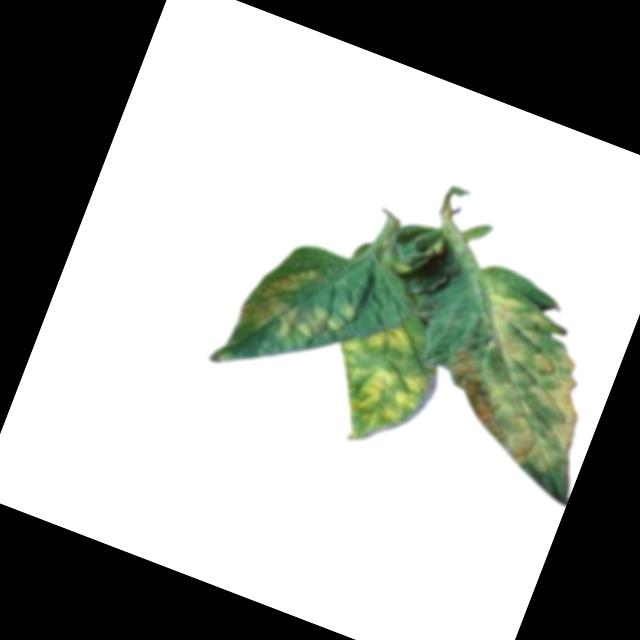Leaf_Mold: (422, 275, 629, 486), (313, 307, 451, 457), (235, 250, 362, 362)
